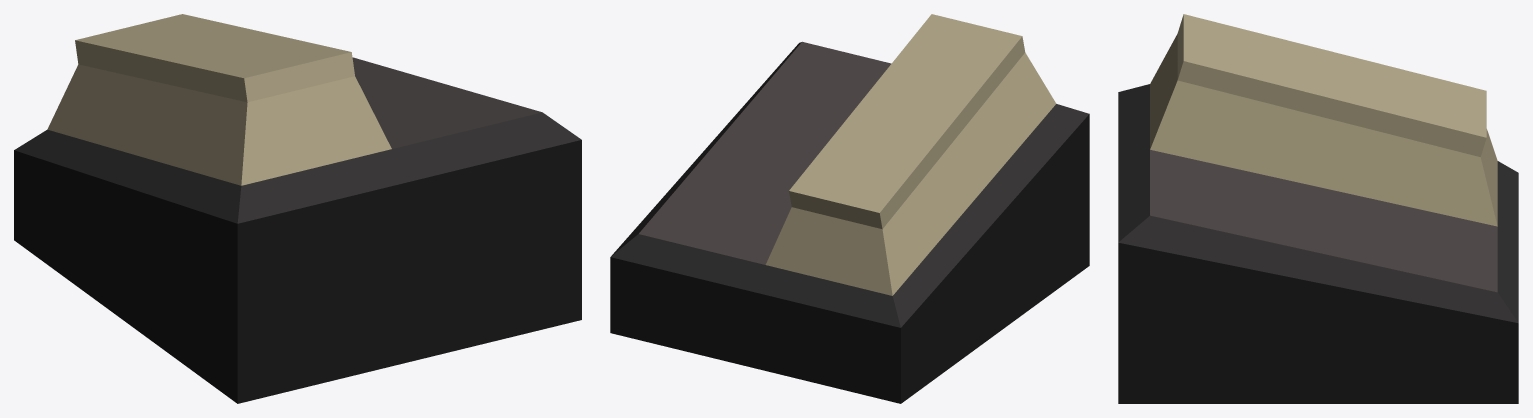
The model's file is OfficePhone.gltf.
The picture shows the model from 3 angles, left to right: view 1: azimuth 30°, elevation 25°; view 2: azimuth 150°, elevation 25°; view 3: azimuth 270°, elevation 25°; orthographic projection. The views are drawn at different scales.
Parts seen in each view (by area): view 1: mesh; view 2: mesh; view 3: mesh.
Part boxes in pixels (<box>): mesh: <box>14,14,581,403</box>; mesh: <box>610,14,1089,403</box>; mesh: <box>1118,14,1518,403</box>.
Bounding box in the file's own units: 1 × 0.8006 × 1.12.
1 material, 1 textured.
